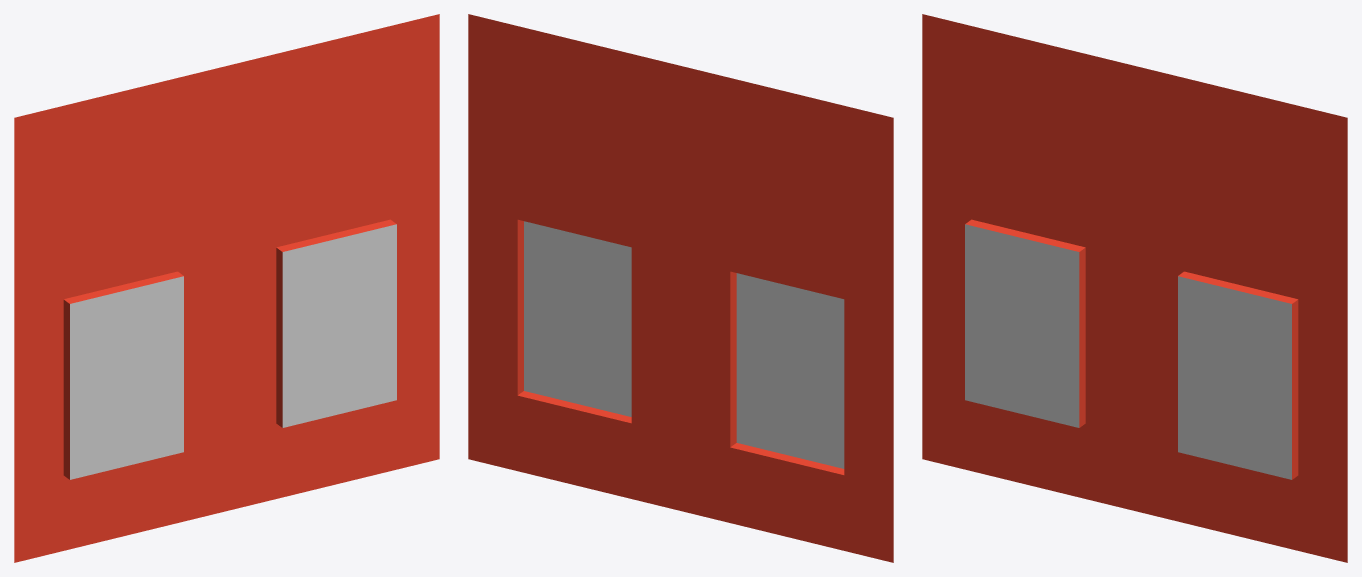
File: wallGreekEnd.fbx
3 views of the same model, side by side, from view 1: azimuth 30°, elevation 25°; view 2: azimuth 150°, elevation 25°; view 3: azimuth 330°, elevation 25° (orthographic).
Parts seen in each view (by area): view 1: WallGreekEnd; view 2: WallGreekEnd; view 3: WallGreekEnd.
Boxes of the visible parts, x1,y1,x2,y2 form: WallGreekEnd: (14,14,439,562); WallGreekEnd: (468,14,893,562); WallGreekEnd: (922,14,1347,562).
Bounding box in the file's own units: 200 × 200 × 5.2.
